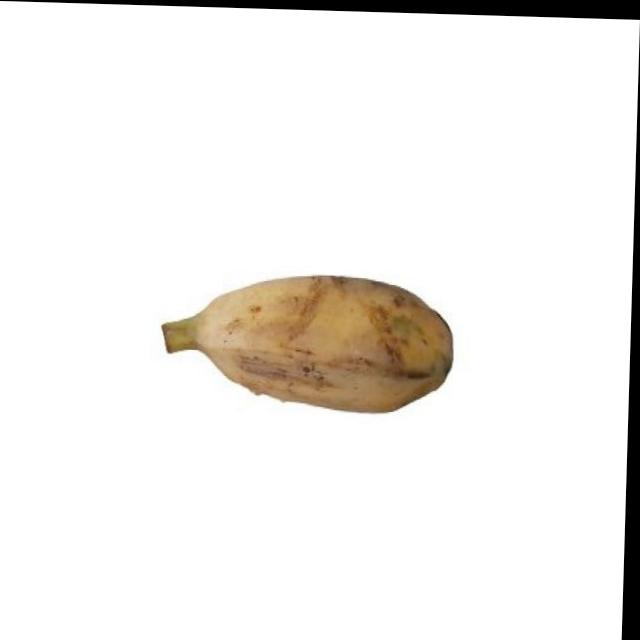banana: (150, 259, 460, 421)
